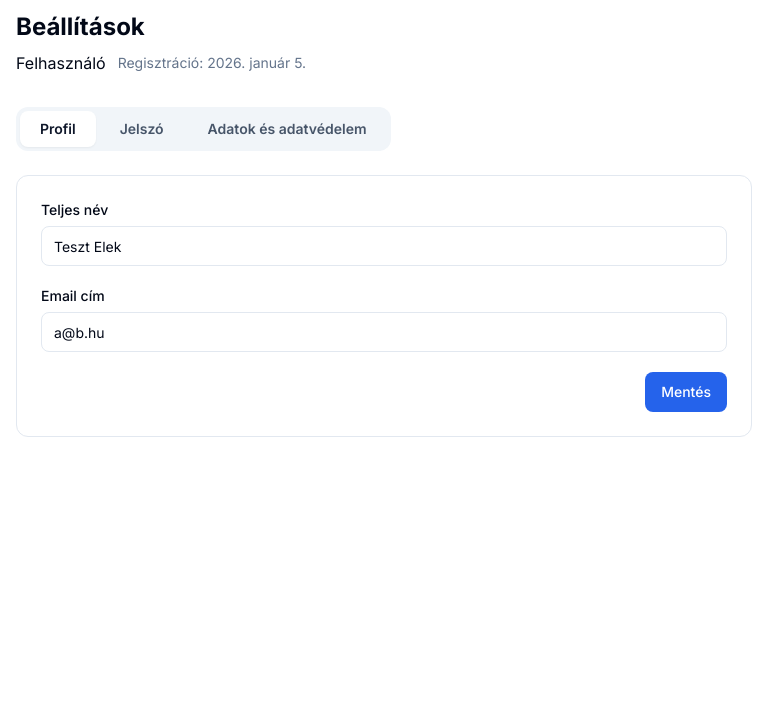
SettingsPage › hibás jelenlegi jelszónál megjeleníti a szerver hibaüzenetét
Step 1. Click the button "Jelszó" → (142, 129), box [100, 111, 184, 147]
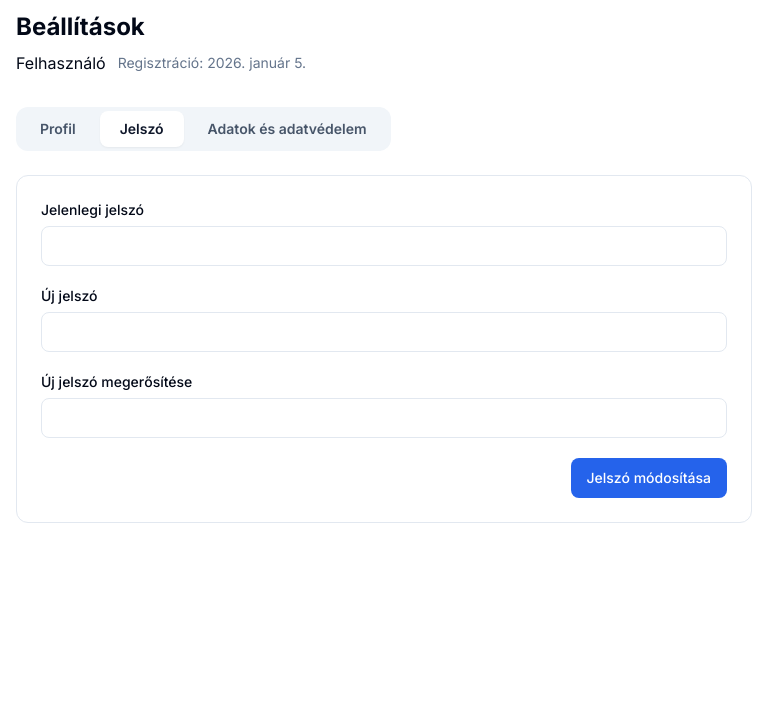
Step 2. Type "Rossz123!" into the password field labelled "Jelenlegi jelszó" → (384, 246), box [41, 226, 727, 266]
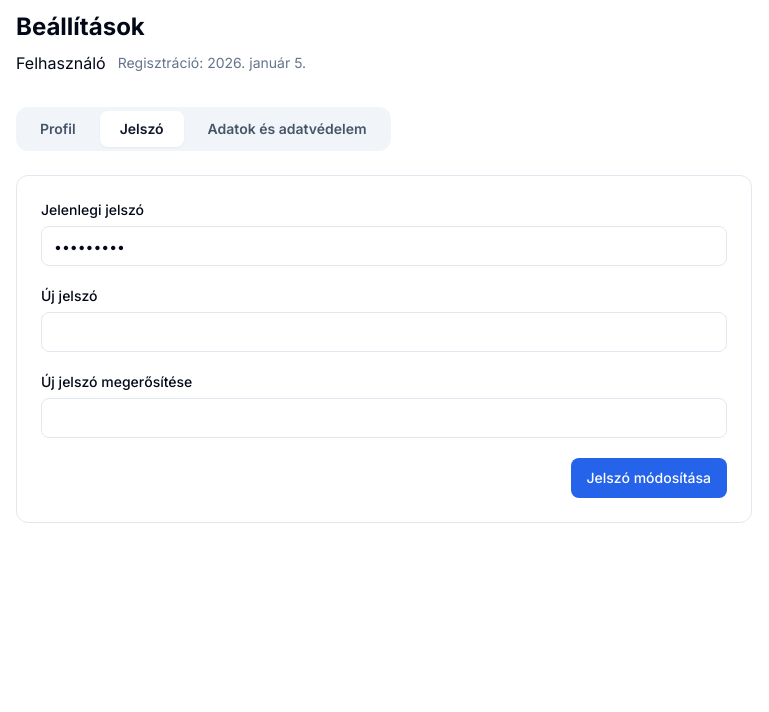
Step 3. Type "UjJelszo123!" into the password field labelled "Új jelszó" → (384, 332), box [41, 312, 727, 352]
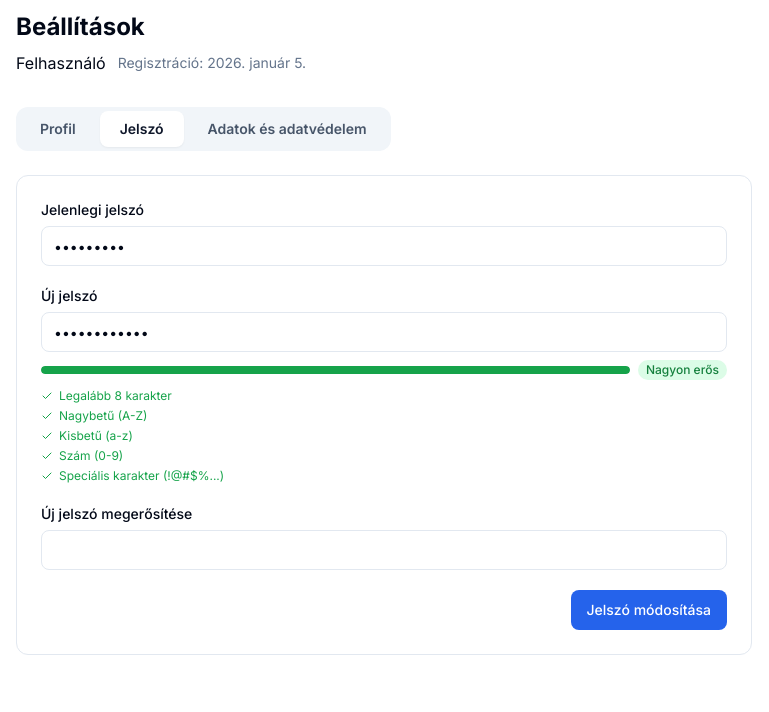
Step 4. Type "UjJelszo123!" into the password field labelled "Új jelszó megerősítése" → (384, 550), box [41, 530, 727, 570]
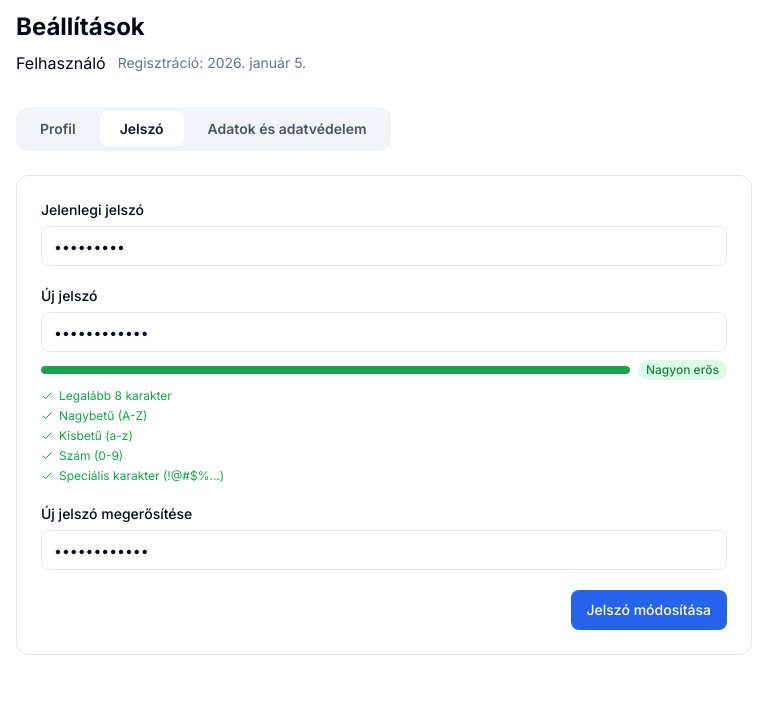
Step 5. Submit the form named "Jelszó módosítása", box [41, 200, 727, 630]
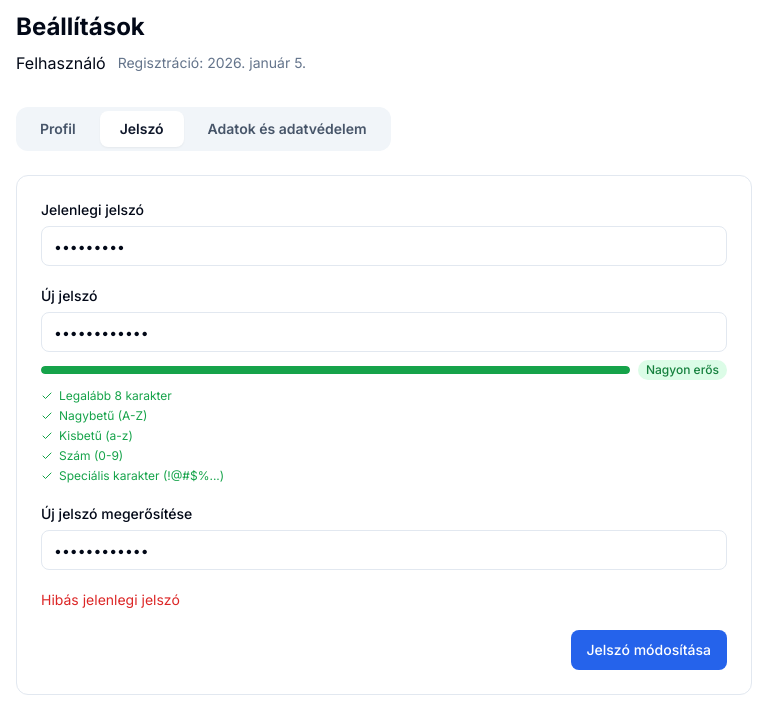
expect the text "Hibás jelenlegi jelszó" is shown: met, box [41, 591, 180, 608]
